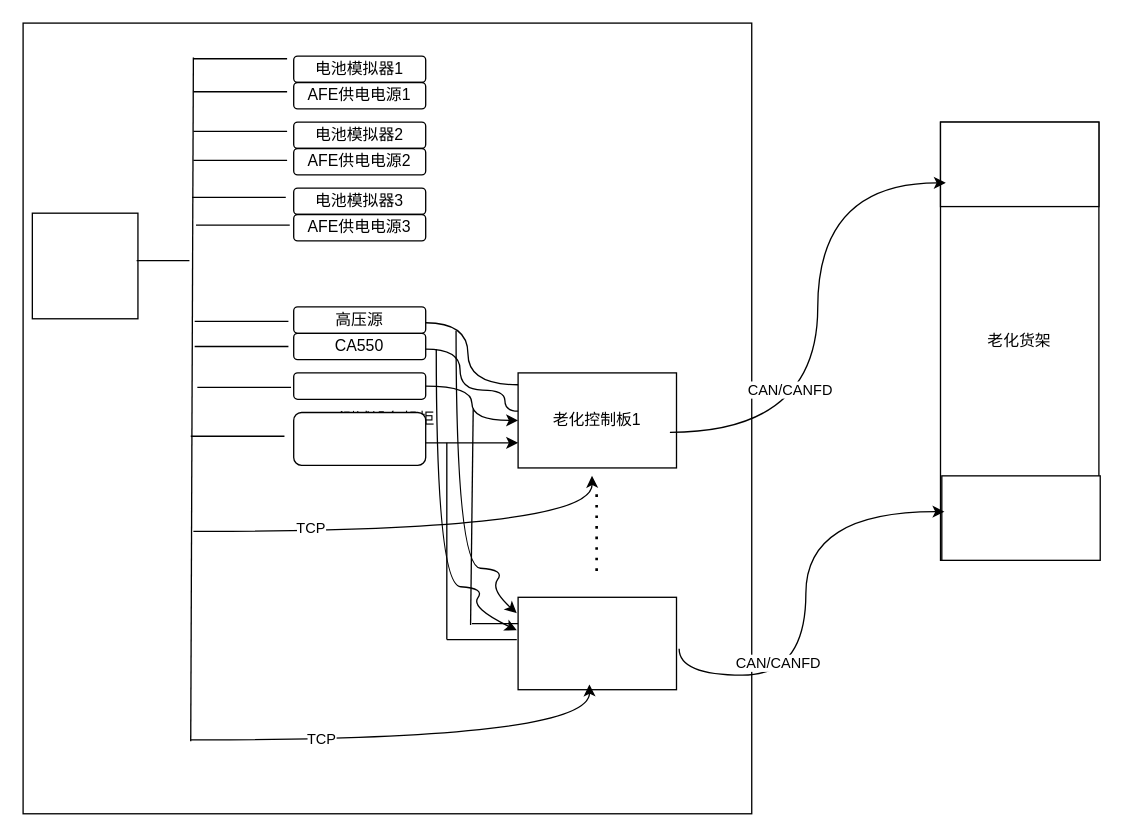
Image size: 1123x837. Some labels were removed from this diagram. Here are the shapes that lost their labels. From the top down, the box of each, then its label:
(939, 121, 1099, 207): 被测物1
(31, 212, 138, 319): PC
(292, 372, 426, 399): 被测物供电电源
(292, 411, 426, 465): 老化控制板供电电源
(940, 475, 1100, 560): 被测物60
(517, 596, 676, 690): 老化控制板60
